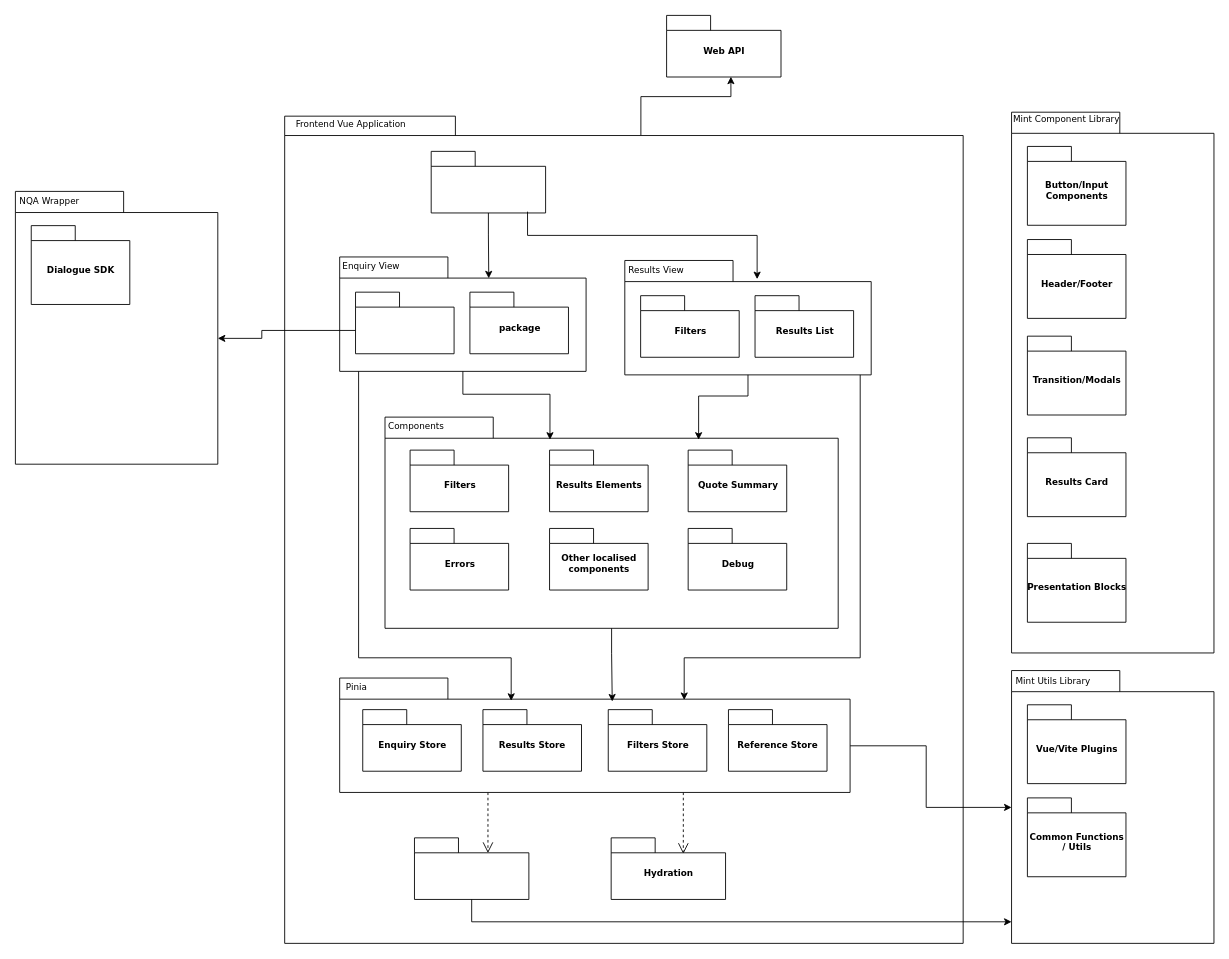
Some shapes in this 1229 by 959 pixel diagram are drawn without their labels. The centre of each missing label's shape, as x and y in pixels:
"API/HTTP" goes at (471,868).
"App.vue" goes at (488,181).
"Dialogue Enquiry Form" goes at (404,322).
